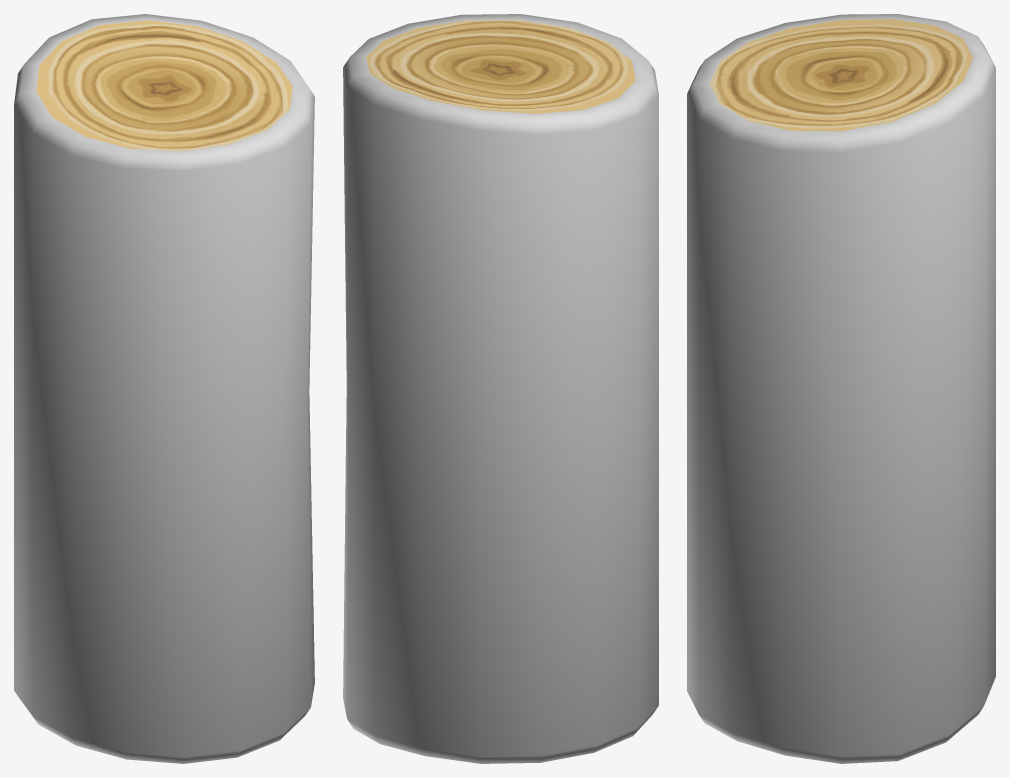
Rendered from Log.fbx.
3 renders of one model, left to right at view 1: azimuth 30°, elevation 25°; view 2: azimuth 150°, elevation 25°; view 3: azimuth 270°, elevation 25°, orthographic. The views are drawn at different scales.
Visible parts, largest first — view 1: Cylinder; view 2: Cylinder; view 3: Cylinder.
Part boxes in pixels (x1,y1,x2,y2): Cylinder: [14, 14, 314, 763]; Cylinder: [343, 14, 658, 763]; Cylinder: [687, 14, 995, 763].
Bounding box in the file's own units: 0.9299 × 2.15 × 0.9299.
